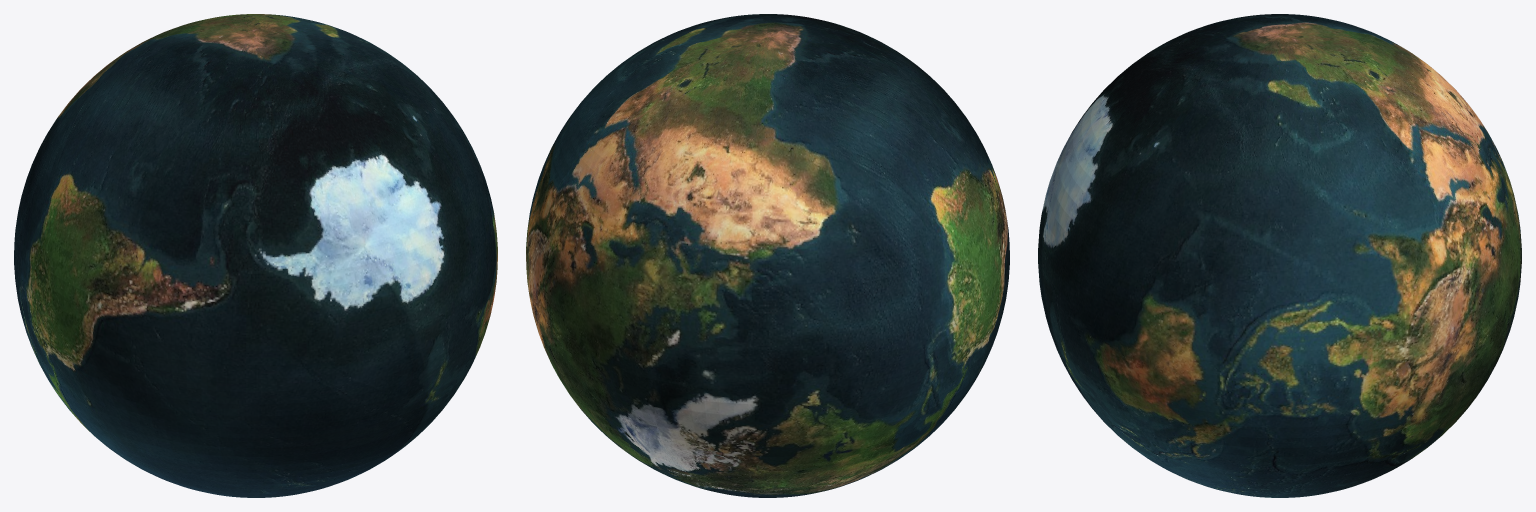
File: Terra.obj
3 renders of one model, left to right at view 1: azimuth 30°, elevation 25°; view 2: azimuth 150°, elevation 25°; view 3: azimuth 270°, elevation 25°, orthographic.
Size of the model in its own units: 2 by 2 by 2.
Materials: 1 (1 with a texture image).
